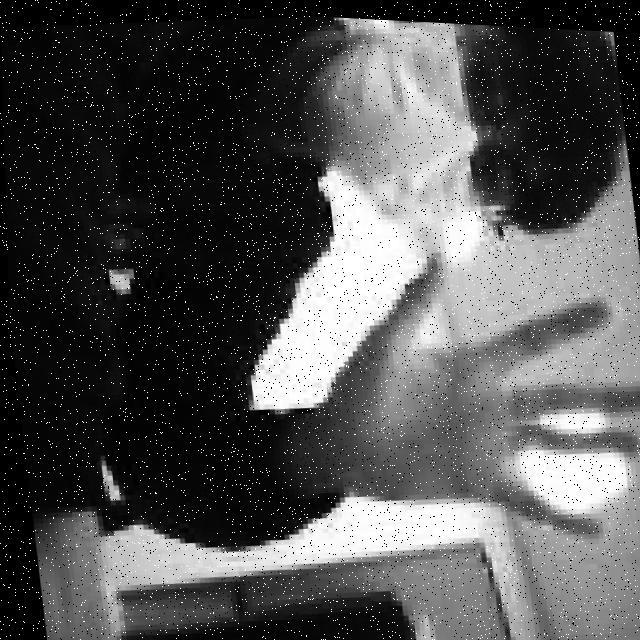no-gloves: (303, 224, 640, 561)
